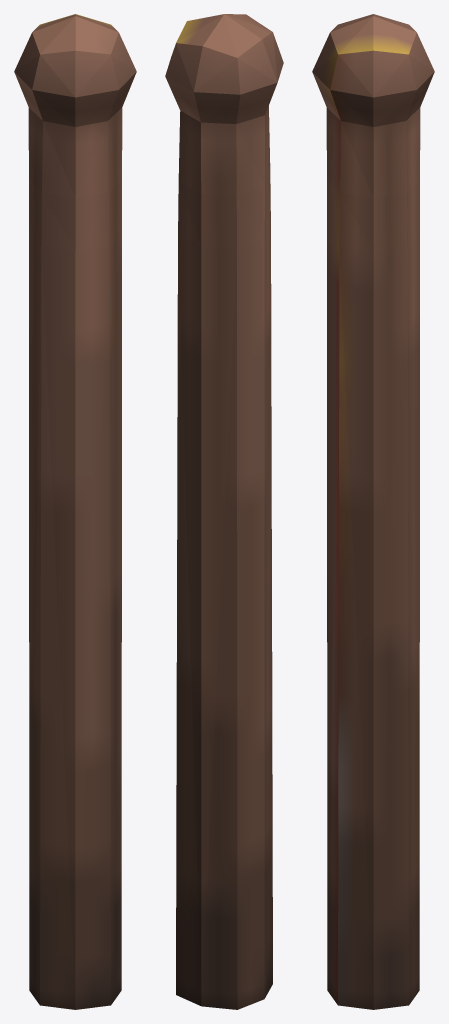
The model's file is fence_0420x08.obj.
The picture shows the model from 3 angles, left to right: view 1: azimuth 90°, elevation 25°; view 2: azimuth 150°, elevation 25°; view 3: azimuth 270°, elevation 25°; orthographic projection.
Visible parts, largest first — view 1: Ropepole_Brown; view 2: Ropepole_Brown; view 3: Ropepole_Brown.
Boxes of the visible parts, x1,y1,x2,y2 form: Ropepole_Brown: (14,14,136,1009); Ropepole_Brown: (165,14,283,1009); Ropepole_Brown: (312,14,434,1009).
Size of the model in its own units: 0.2656 by 2.33 by 0.2656.
